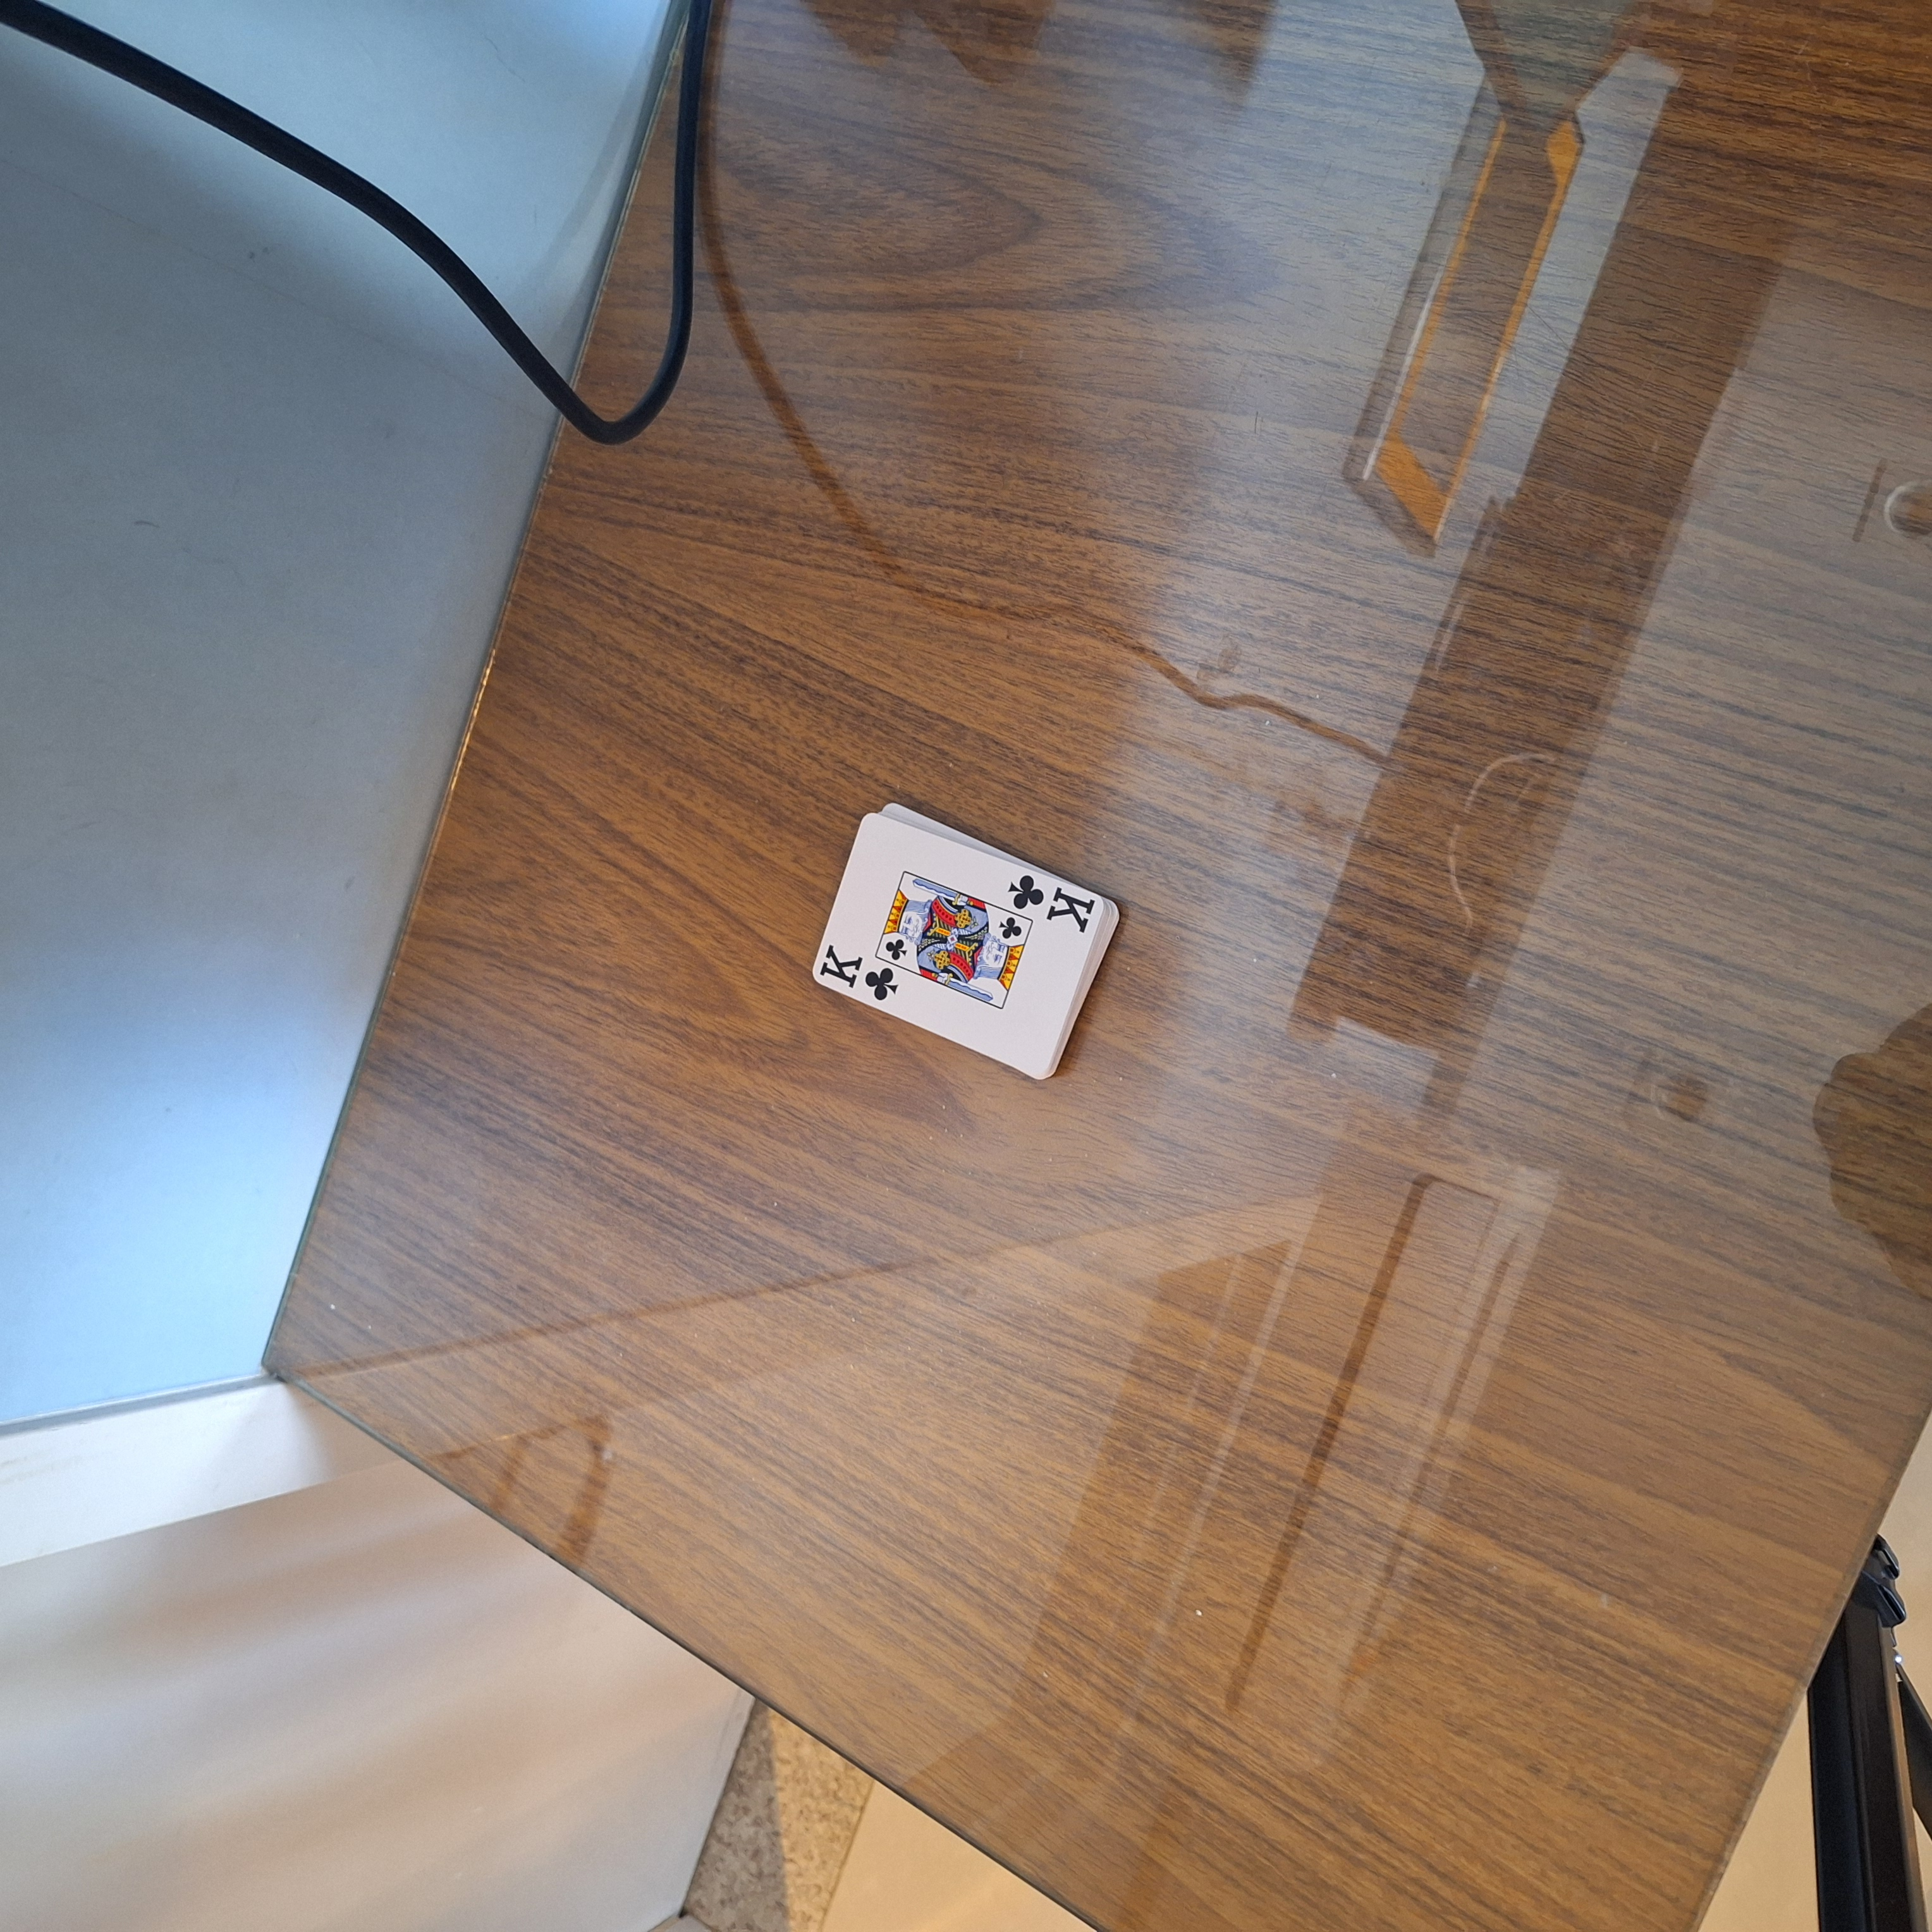KP: (1001, 867, 1102, 936), (810, 939, 902, 1005)
